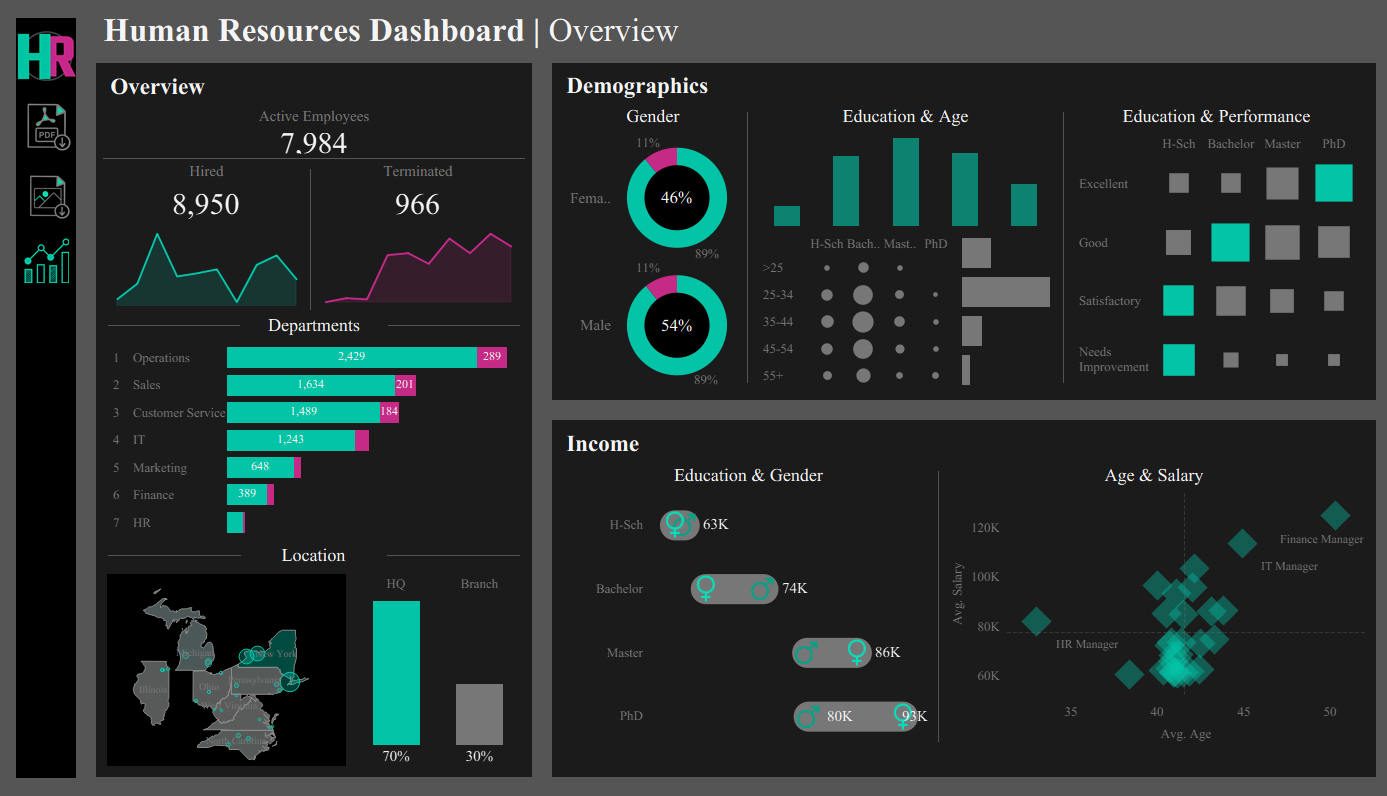

The dashboard page shown, as its layout file describes it:
{"tool":"tableau","page":{"name":"HR Summary","canvas":[1400,800],"ordinal":0},"visuals":[{"type":"text","box":[100,0,696,65]},{"type":"blank","box":[796,0,584,65]},{"type":"blank","box":[20,20,60,380]},{"type":"image","param":"Image/Logo.png","box":[21,32,63,51]},{"type":"text","box":[107,72,422,34]},{"type":"text","box":[563,72,810,32]},{"type":"dashboard-object","box":[26,102,49,52]},{"type":"text","box":[568,104,178,28]},{"type":"blank","box":[751,104,1,291]},{"type":"text","box":[757,104,305,28]},{"type":"blank","box":[1067,104,1,291]},{"type":"text","box":[1073,104,295,28]},{"type":"text","box":[107,106,422,25]},{"type":"worksheet","title":"BAN Active","mark":"Automatic","box":[107,131,422,28.6]},{"type":"worksheet","title":"Gender","mark":"Pie","rows":["Gender"],"cols":["Calculation_2244762993955672071","Calculation_2244762993955672071"],"box":[568,132,178,263]},{"type":"worksheet","title":"Age Groups","mark":"Bar","rows":["Calculation_2244762993925939200"],"cols":["Calculation_2244762994177146889"],"box":[757,132,305,100]},{"type":"worksheet","title":"Education vs Performance","mark":"Shape","rows":["Performance Rating"],"cols":["Education Level"],"box":[1073,132,295,263]},{"type":"blank","box":[107,159.6,422,1]},{"type":"text","box":[107,160.6,207,25]},{"type":"blank","box":[314,160.6,1,151]},{"type":"text","box":[315,160.6,213.9,25]},{"type":"dashboard-object","box":[29,173,45,52]},{"type":"worksheet","title":"BAN Hired","mark":"Automatic","box":[107,185.6,207,41]},{"type":"worksheet","title":"BAN Terminated","mark":"Automatic","box":[315,185.6,213.9,41]},{"type":"worksheet","title":"Hired by Year","mark":"Automatic","rows":["Calculation_2244762993925939200","Calculation_2244762993925939200"],"cols":["Hiredate"],"box":[107,226.6,207,85]},{"type":"worksheet","title":"Terminate by Year","mark":"Automatic","rows":["Calculation_2244762993926254593","Calculation_2244762993926254593"],"cols":["Termdate"],"box":[315,226.6,213.9,85]},{"type":"worksheet","title":"Age vs Education","mark":"Circle","rows":["Calculation_2244762994177146889"],"cols":["Education Level"],"box":[757,232,205,163]},{"type":"worksheet","title":"Education Level","mark":"Bar","rows":["Education Level"],"cols":["Calculation_2244762993925939200"],"box":[962,232,100,163]},{"type":"dashboard-object","box":[28,237,45,52]},{"type":"blank","box":[107,311.6,142,30]},{"type":"text","box":[249,311.6,138,30]},{"type":"blank","box":[387,311.6,142,30]},{"type":"worksheet","title":"Department","mark":"Bar","rows":["Calculation_2244762993948069892","Department"],"cols":["Calculation_2244762993925939200"],"box":[107,341.6,422,200.4]},{"type":"blank","box":[20,400,60,380]},{"type":"text","box":[563,429,810,34]},{"type":"text","box":[568,463,369,28]},{"type":"blank","box":[942,463,1,291]},{"type":"text","box":[943,463,430,28]},{"type":"worksheet","title":"Gender vs Education Level","mark":"Shape","rows":["Education Level"],"cols":["Salary","Salary"],"box":[568,491,369,263]},{"type":"worksheet","title":"Age vs Salary","mark":"Shape","rows":["Salary"],"cols":["Calculation_2244762994175971336"],"box":[943,491,430,263]},{"type":"blank","box":[107,542,143.3,30]},{"type":"text","box":[250.3,542,135.3,30]},{"type":"blank","box":[385.7,542,143.3,30]},{"type":"worksheet","title":"Map States","mark":"Automatic","box":[107,572,247,200]},{"type":"worksheet","title":"Location","mark":"Bar","rows":["Calculation_2244762993925939200"],"cols":["Calculation_2244762993948631045","Calculation1"],"box":[354,572,175,200]}]}

Visuals, with their boxes in screenshot pixels (x1, y1, x2, y2):
text: detection(91, 0, 747, 22)
blank: detection(747, 0, 1297, 22)
blank: detection(15, 0, 72, 337)
image: detection(16, 0, 76, 38)
text: detection(97, 28, 495, 60)
text: detection(527, 28, 1290, 58)
dashboard-object: detection(21, 56, 67, 105)
text: detection(532, 58, 699, 85)
blank: detection(704, 58, 705, 333)
text: detection(710, 58, 997, 85)
blank: detection(1002, 58, 1003, 333)
text: detection(1008, 58, 1286, 85)
text: detection(97, 60, 495, 84)
"BAN Active" worksheet: detection(97, 84, 495, 111)
"Gender" worksheet (Pie marks): detection(532, 85, 699, 333)
"Age Groups" worksheet (Bar marks): detection(710, 85, 997, 179)
"Education vs Performance" worksheet (Shape marks): detection(1008, 85, 1286, 333)
blank: detection(97, 111, 495, 112)
text: detection(97, 112, 292, 135)
blank: detection(292, 112, 293, 254)
text: detection(293, 112, 495, 135)
dashboard-object: detection(24, 123, 66, 172)
"BAN Hired" worksheet: detection(97, 135, 292, 174)
"BAN Terminated" worksheet: detection(293, 135, 495, 174)
"Hired by Year" worksheet: detection(97, 174, 292, 254)
"Terminate by Year" worksheet: detection(293, 174, 495, 254)
"Age vs Education" worksheet (Circle marks): detection(710, 179, 903, 333)
"Education Level" worksheet (Bar marks): detection(903, 179, 997, 333)
dashboard-object: detection(23, 184, 65, 233)
blank: detection(97, 254, 231, 282)
text: detection(231, 254, 361, 282)
blank: detection(361, 254, 495, 282)
"Department" worksheet (Bar marks): detection(97, 282, 495, 471)
blank: detection(15, 337, 72, 695)
text: detection(527, 365, 1290, 397)
text: detection(532, 397, 879, 423)
blank: detection(884, 397, 885, 671)
text: detection(885, 397, 1290, 423)
"Gender vs Education Level" worksheet (Shape marks): detection(532, 423, 879, 671)
"Age vs Salary" worksheet (Shape marks): detection(885, 423, 1290, 671)
blank: detection(97, 471, 232, 499)
text: detection(232, 471, 360, 499)
blank: detection(360, 471, 495, 499)
"Map States" worksheet: detection(97, 499, 330, 688)
"Location" worksheet (Bar marks): detection(330, 499, 495, 688)
